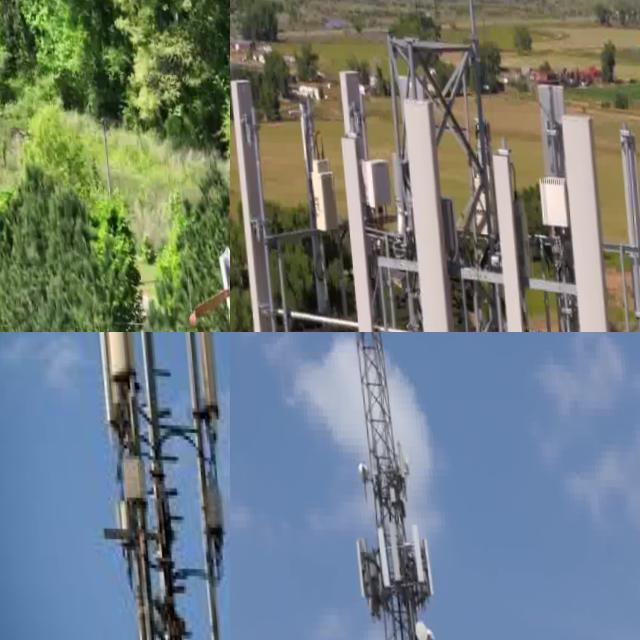GSM Antenna: (396, 77, 461, 332), (551, 99, 620, 332), (230, 57, 275, 332), (528, 67, 578, 280), (325, 128, 375, 332), (483, 137, 529, 332), (329, 53, 378, 233), (609, 78, 640, 329), (183, 332, 224, 413), (84, 332, 141, 381), (209, 240, 230, 332), (346, 528, 368, 608), (412, 521, 431, 599), (401, 518, 420, 595), (367, 516, 387, 589), (379, 514, 397, 582)
Microwave Antenna: (351, 454, 365, 485), (407, 615, 421, 639), (399, 452, 410, 476), (416, 620, 429, 640)
